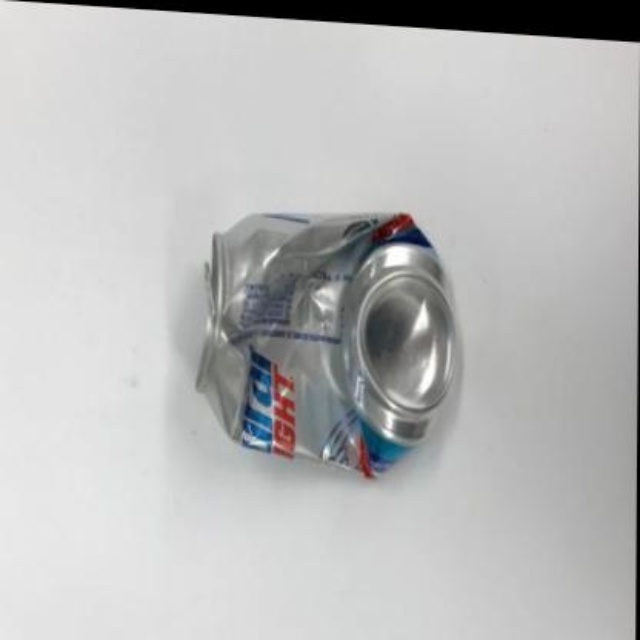trash: (197, 214, 454, 475)
